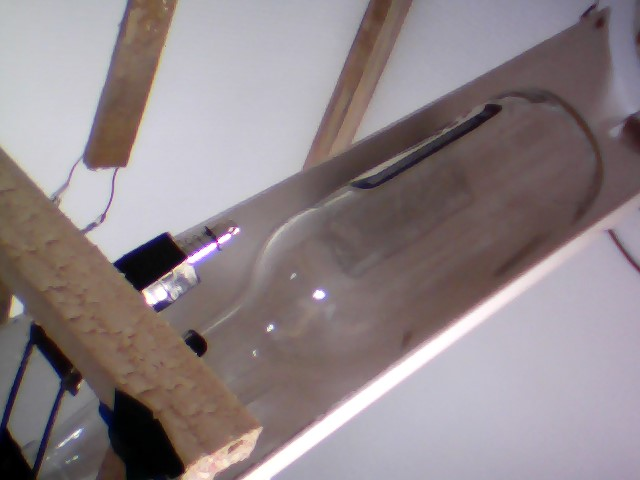vidrio: (180, 79, 605, 416)
